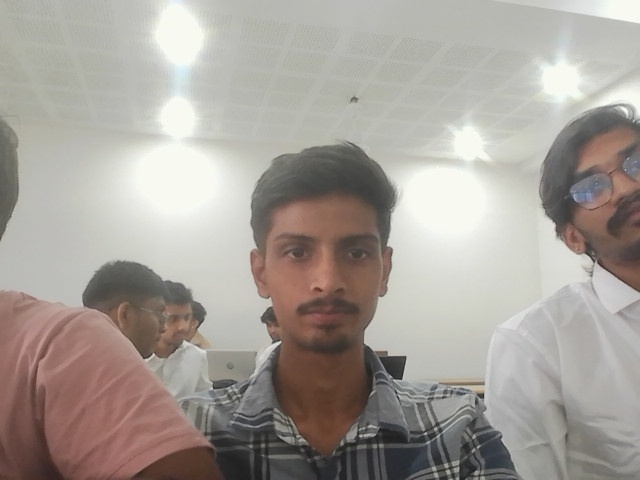light_on: (444, 178, 559, 296), (560, 80, 639, 127), (448, 120, 483, 147), (615, 5, 636, 25)
person: (0, 96, 214, 479), (484, 87, 639, 479), (81, 259, 218, 404)
